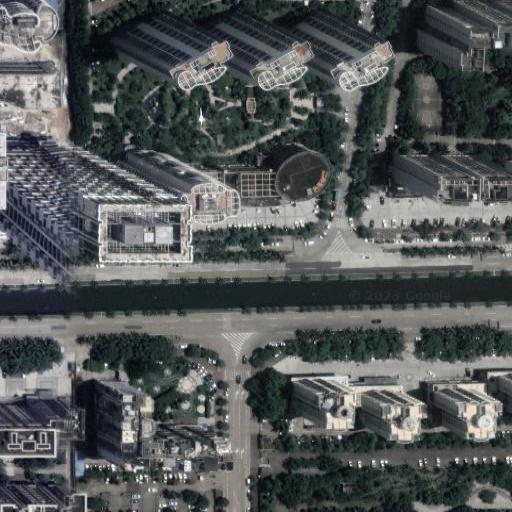building: (100, 380, 208, 458), (32, 126, 128, 183), (115, 0, 183, 52), (291, 375, 405, 404), (279, 0, 347, 47), (215, 0, 283, 42), (271, 140, 330, 188), (0, 385, 59, 432), (0, 473, 66, 508), (434, 146, 512, 174), (140, 129, 195, 168), (434, 372, 512, 397), (357, 391, 404, 427), (434, 391, 478, 428), (294, 381, 337, 416), (229, 176, 264, 198), (498, 375, 512, 411), (246, 159, 264, 169)
